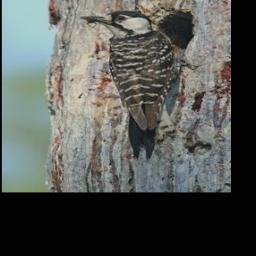Woodpecker: (78, 9, 201, 164)
